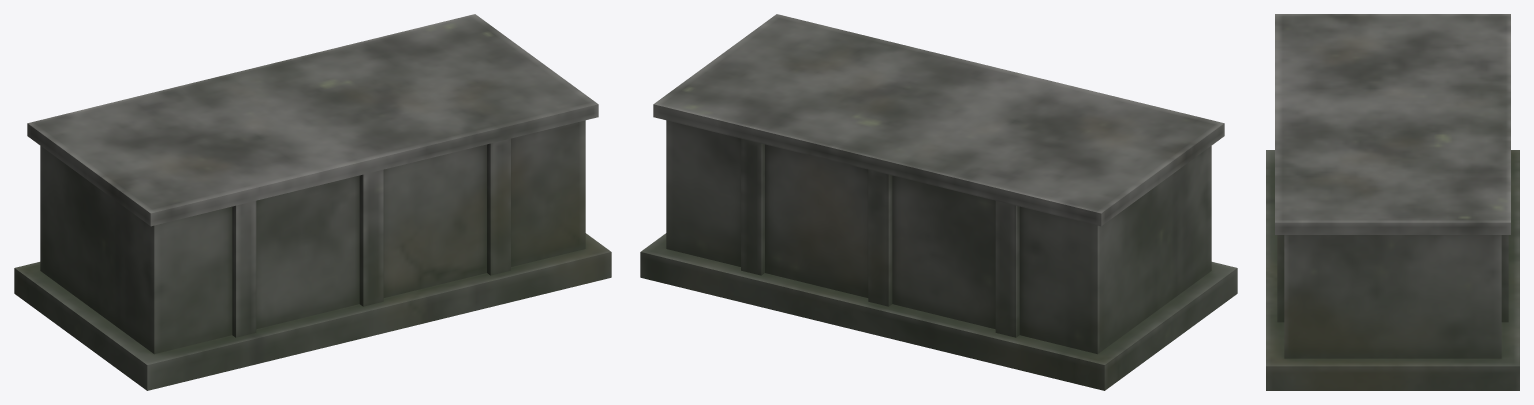
Rendered from tombeau.fbx.
3 renders of one model, left to right at view 1: azimuth 30°, elevation 25°; view 2: azimuth 150°, elevation 25°; view 3: azimuth 270°, elevation 25°, orthographic. The views are drawn at different scales.
Visible parts, largest first — view 1: tombeau; view 2: tombeau; view 3: tombeau.
Boxes of the visible parts, bbox=[...] form: tombeau: bbox=[14, 14, 611, 390]; tombeau: bbox=[640, 14, 1237, 390]; tombeau: bbox=[1266, 14, 1519, 390].
Bounding box in the file's own units: 2.26 × 0.8 × 1.12.
1 material, 1 textured.
